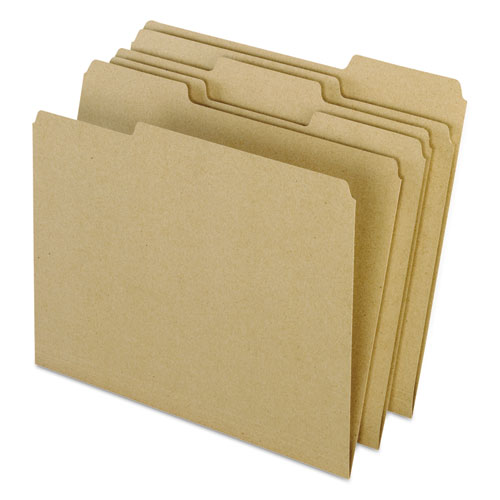Rec_Paper: (14, 1, 470, 477)
